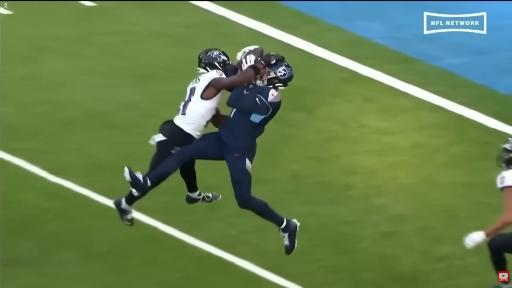Helmet: (257, 60, 293, 88), (198, 49, 230, 73), (498, 138, 511, 168)
Jersey: (219, 83, 281, 149), (174, 71, 225, 138), (497, 170, 511, 189)
Player: (126, 59, 299, 254), (148, 47, 272, 172), (464, 138, 511, 273)
